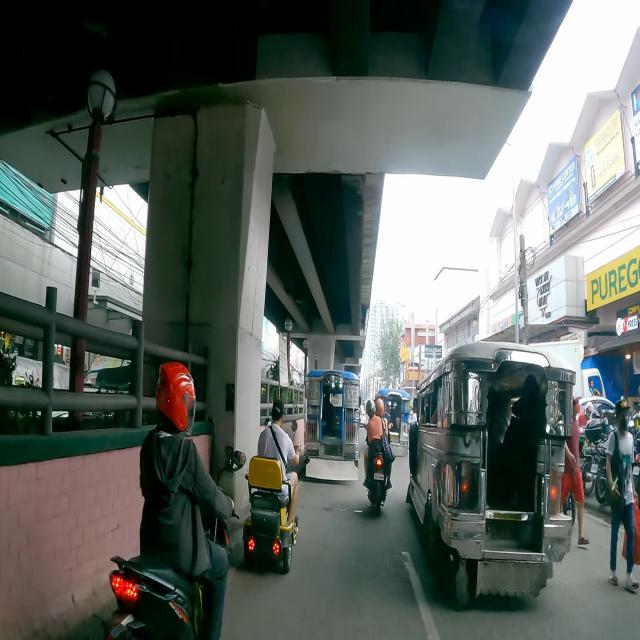jeepney: (409, 344, 573, 607), (305, 368, 360, 484), (376, 389, 409, 457)
motorcycle: (107, 361, 245, 640), (364, 398, 396, 518), (585, 418, 609, 504), (632, 438, 640, 506)
truck: (528, 338, 606, 399)
